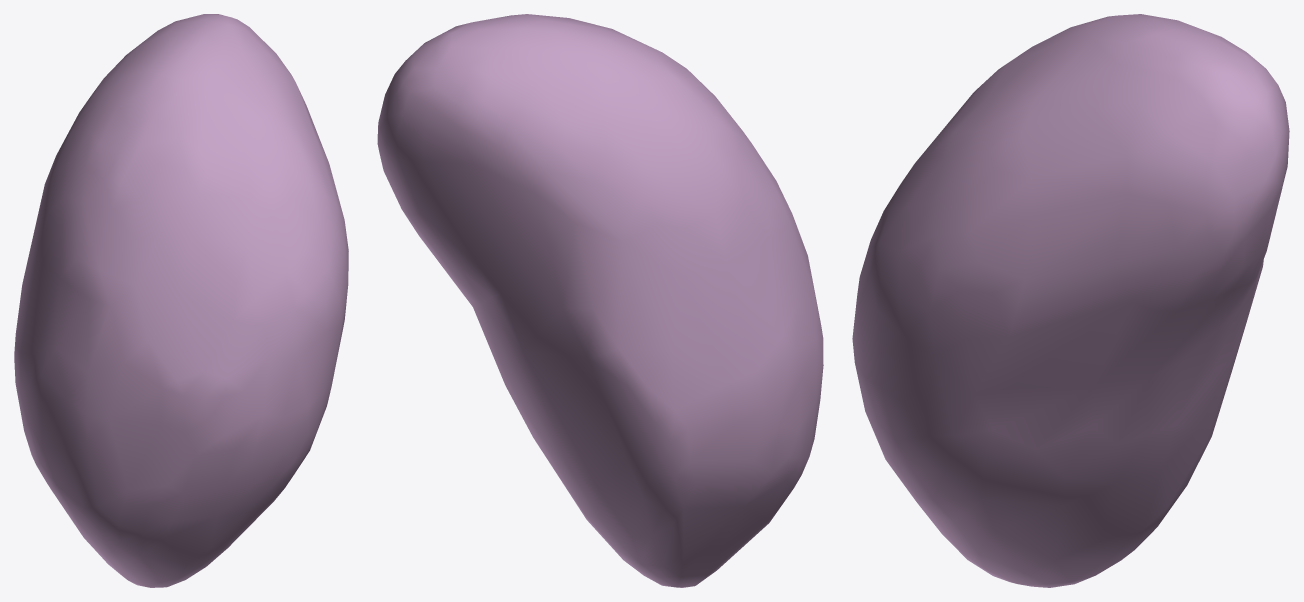
3 views of the same model, side by side, from view 1: azimuth 30°, elevation 25°; view 2: azimuth 150°, elevation 25°; view 3: azimuth 270°, elevation 25° (orthographic). The views are drawn at different scales.
Visible parts, largest first — view 1: 左侧丘脑; view 2: 左侧丘脑; view 3: 左侧丘脑.
Part boxes in pixels (left/top/right/bottom): 左侧丘脑: left=14, top=14, right=348, bottom=587; 左侧丘脑: left=377, top=14, right=823, bottom=587; 左侧丘脑: left=852, top=14, right=1289, bottom=587.
Size of the model in its own units: 0.0334 by 0.0522 by 0.0337.
